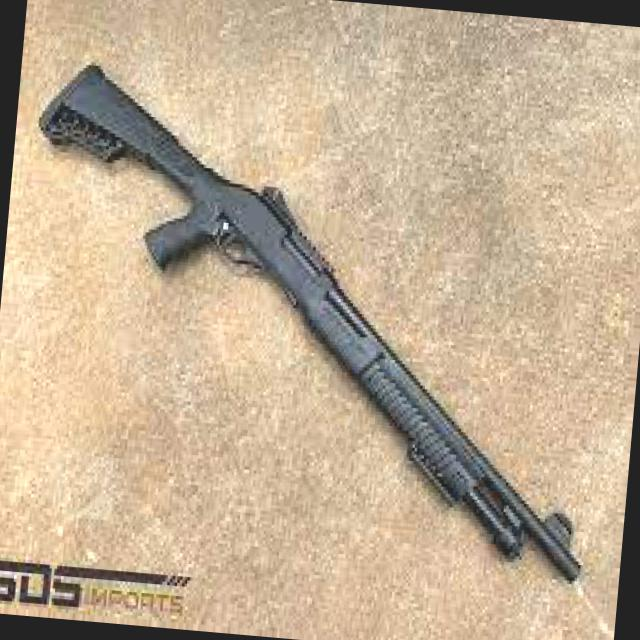long weapon: (21, 38, 605, 628)
